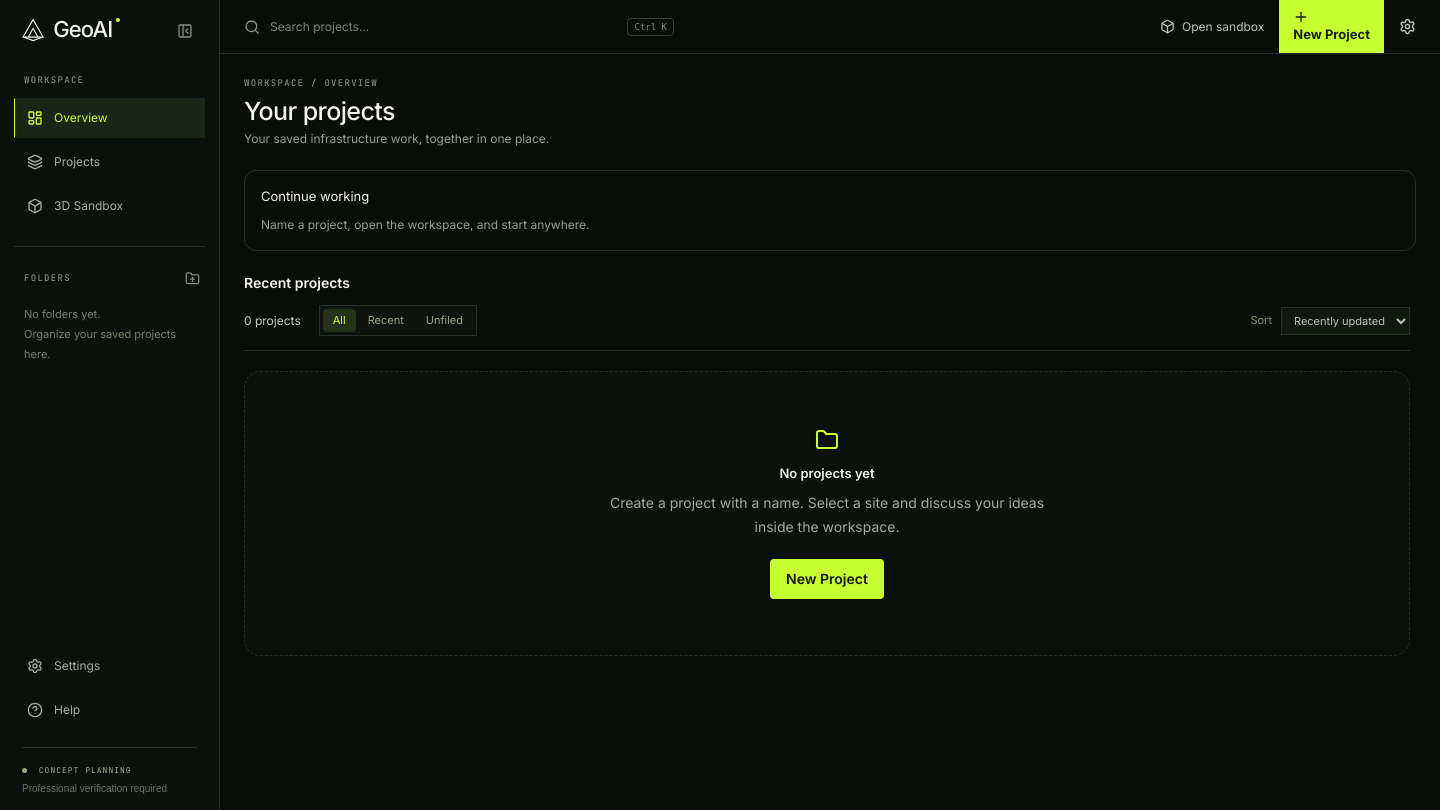
Scenario: name-only project entry › opens a compact dialog with only a project name
The image size is (1440, 810).
Expected: the heading "No projects yet" is shown, [779,465,875,481]
Click the button "New Project" next to "Open sandbox" at (1332, 27), box [1279,0,1384,53]
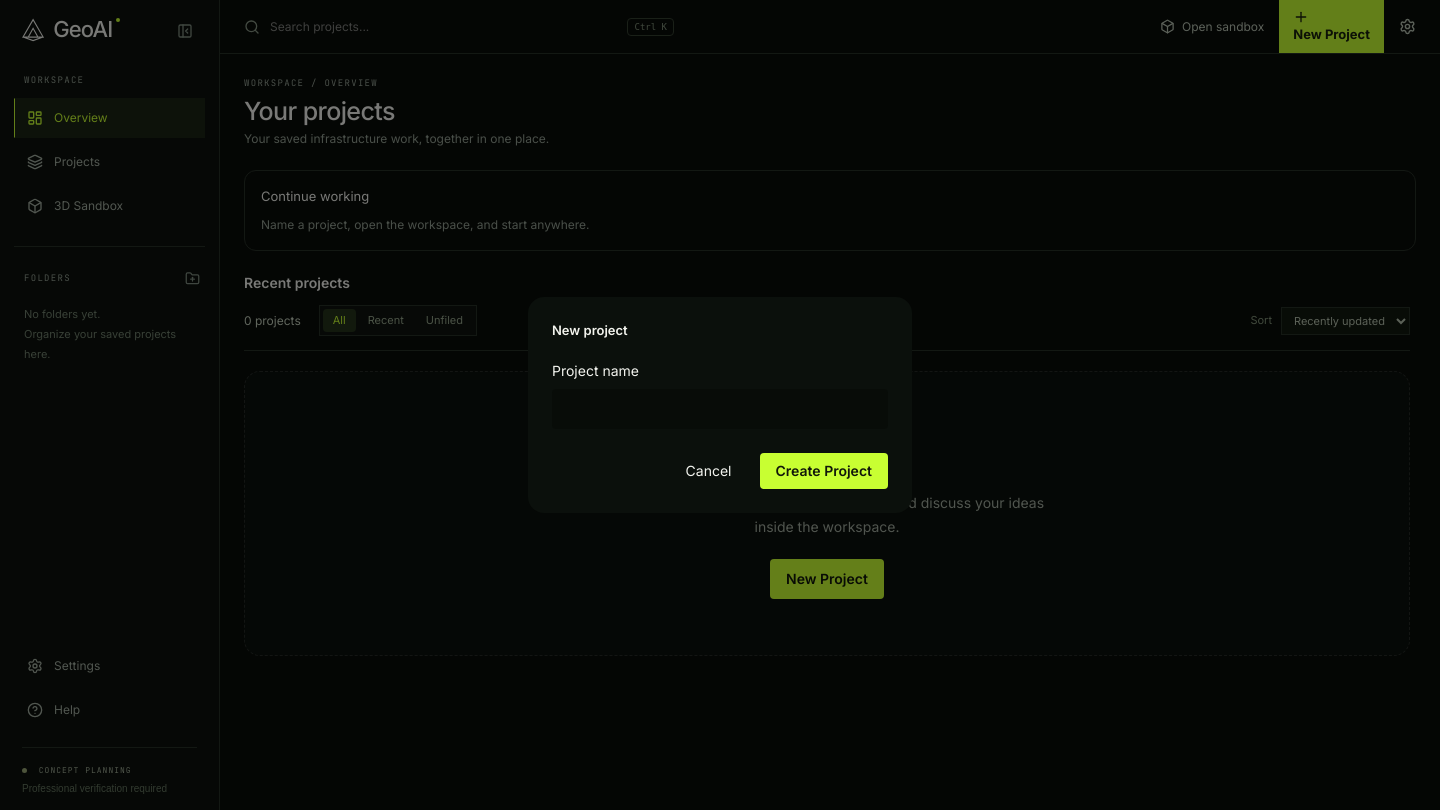
Expected: the button "Create Project" is disabled, [760,453,888,489]
